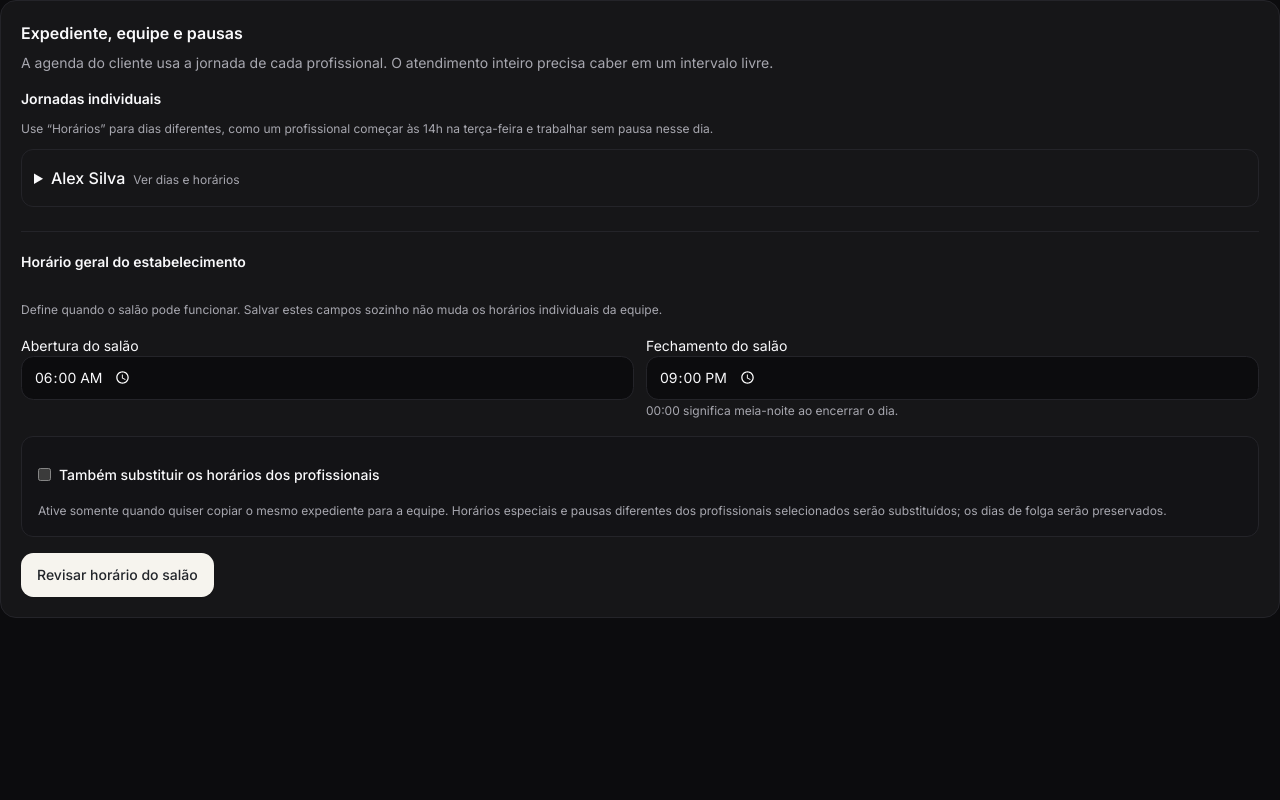
Scenario: configuração clara de salão e jornadas › mantém a escolha e permite repetir quando o servidor falha
The width and height of the screenshot is (1280, 800).
Click the button "Revisar horário do salão".
click(117, 575)  # box [21,553,214,597]
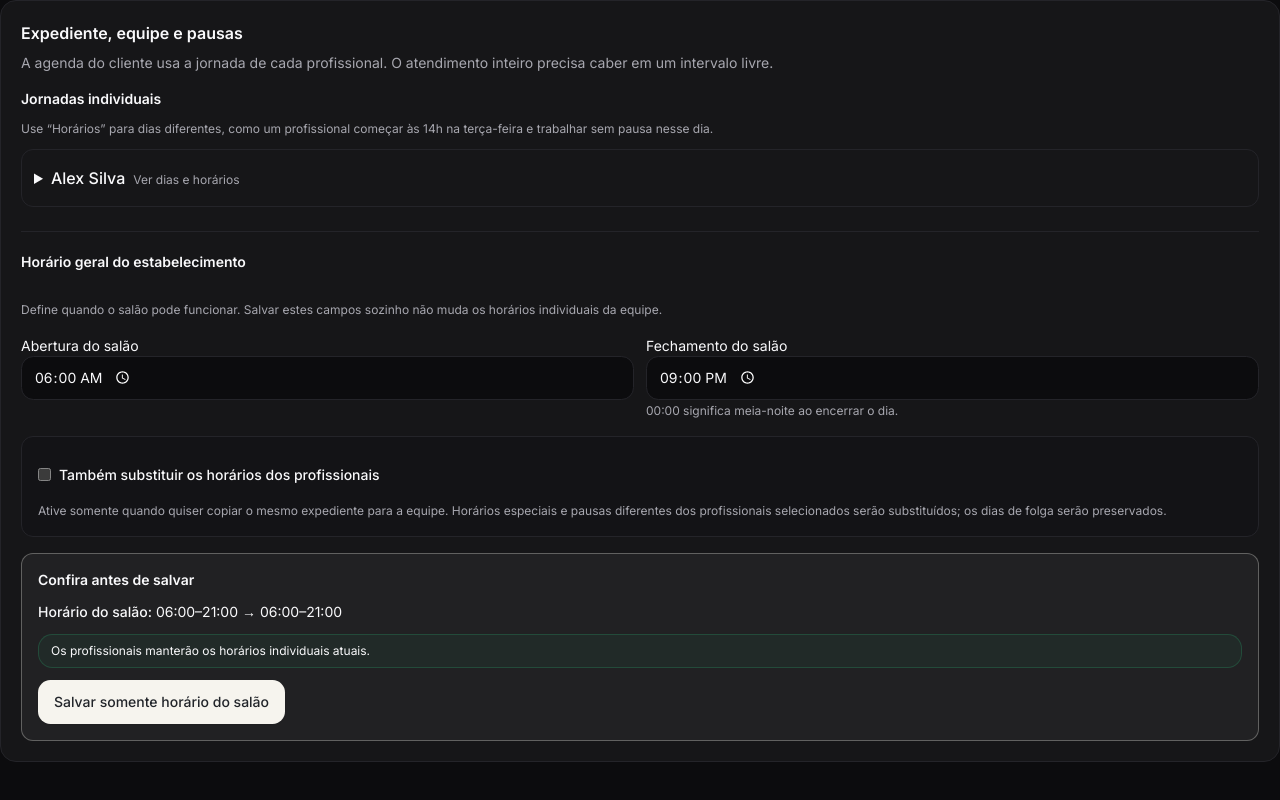
Click the button "Salvar somente horário do salão".
click(162, 702)  # box [38,680,285,724]
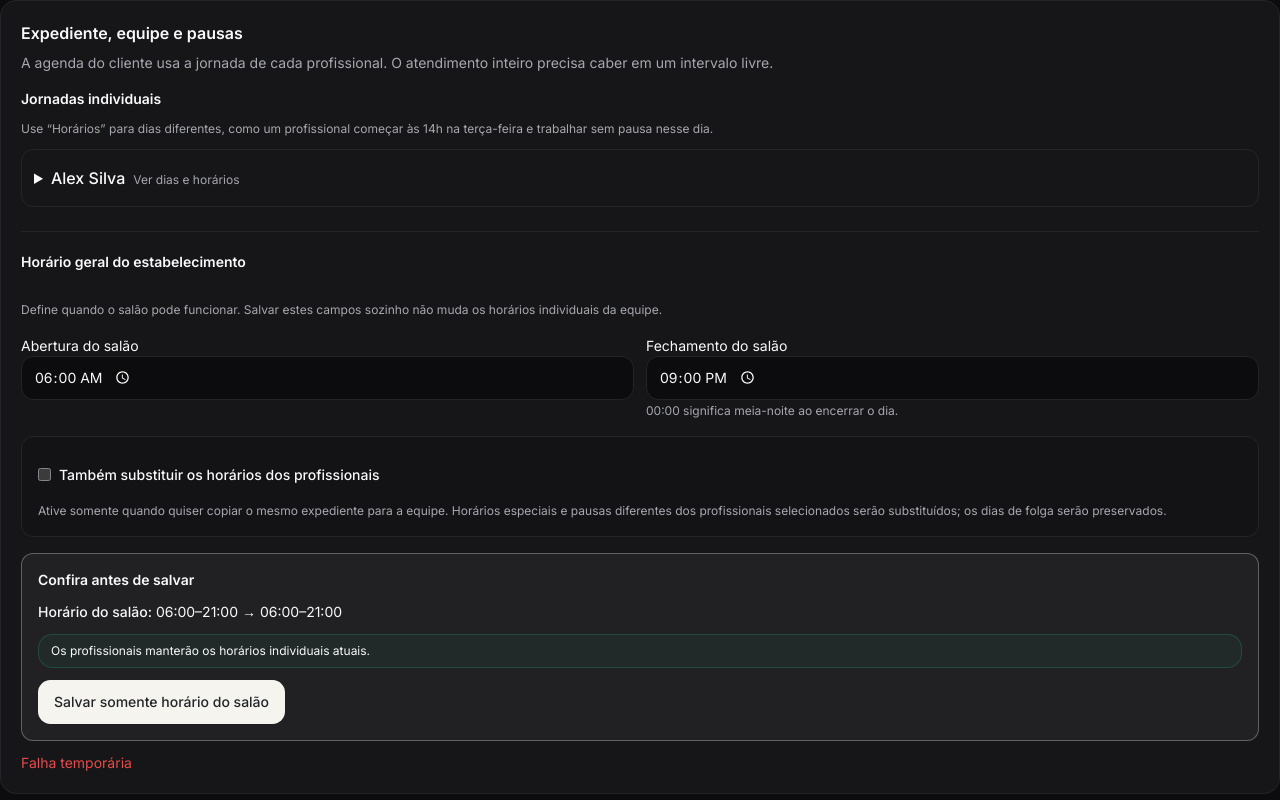
Now the message reads "Falha temporária", box [21,754,132,771]
Click the button "Salvar somente horário do salão".
click(162, 702)  # box [38,680,285,724]
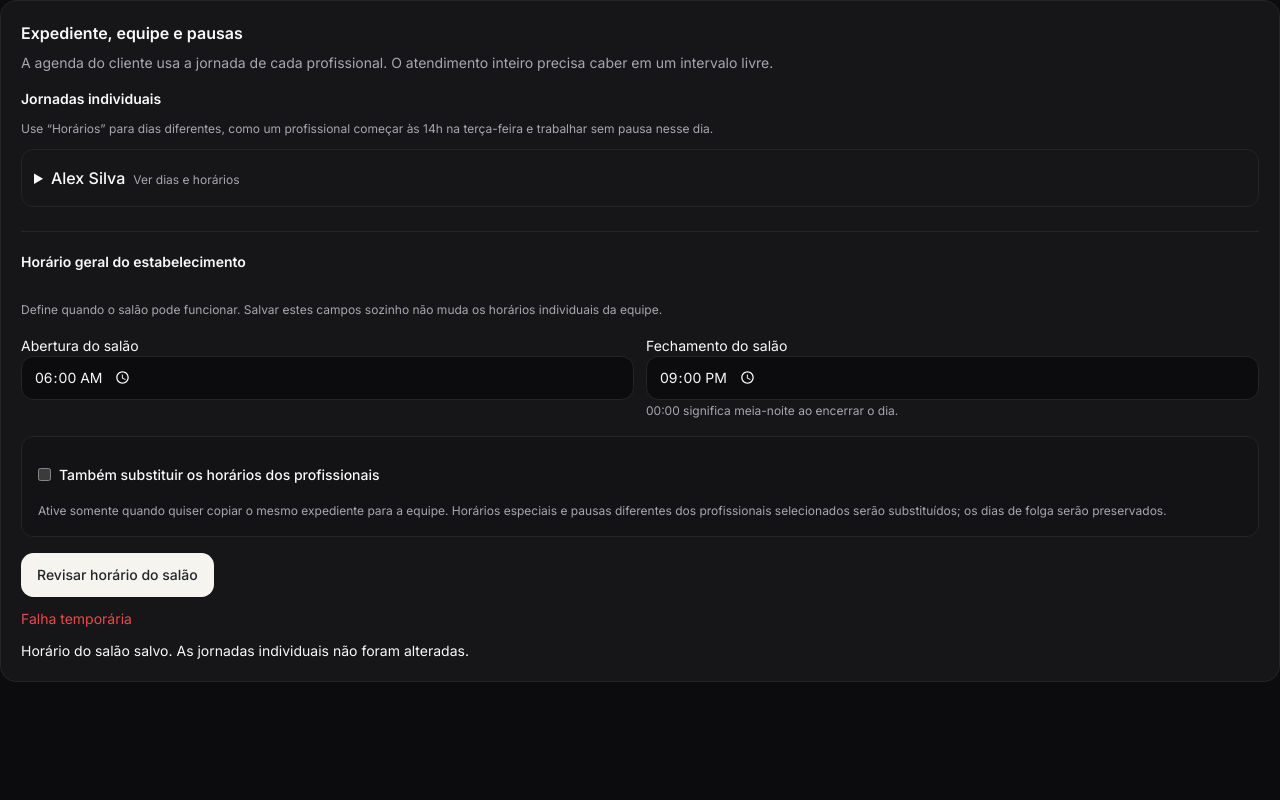
Now the message "Horário do salão salvo. As jornadas individuais não foram alteradas." is shown, box [21,642,469,659]
